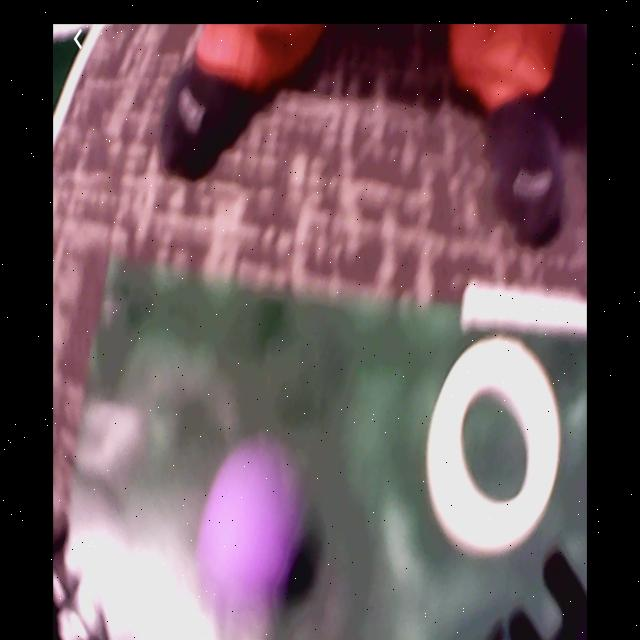ball: (209, 474, 294, 593)
